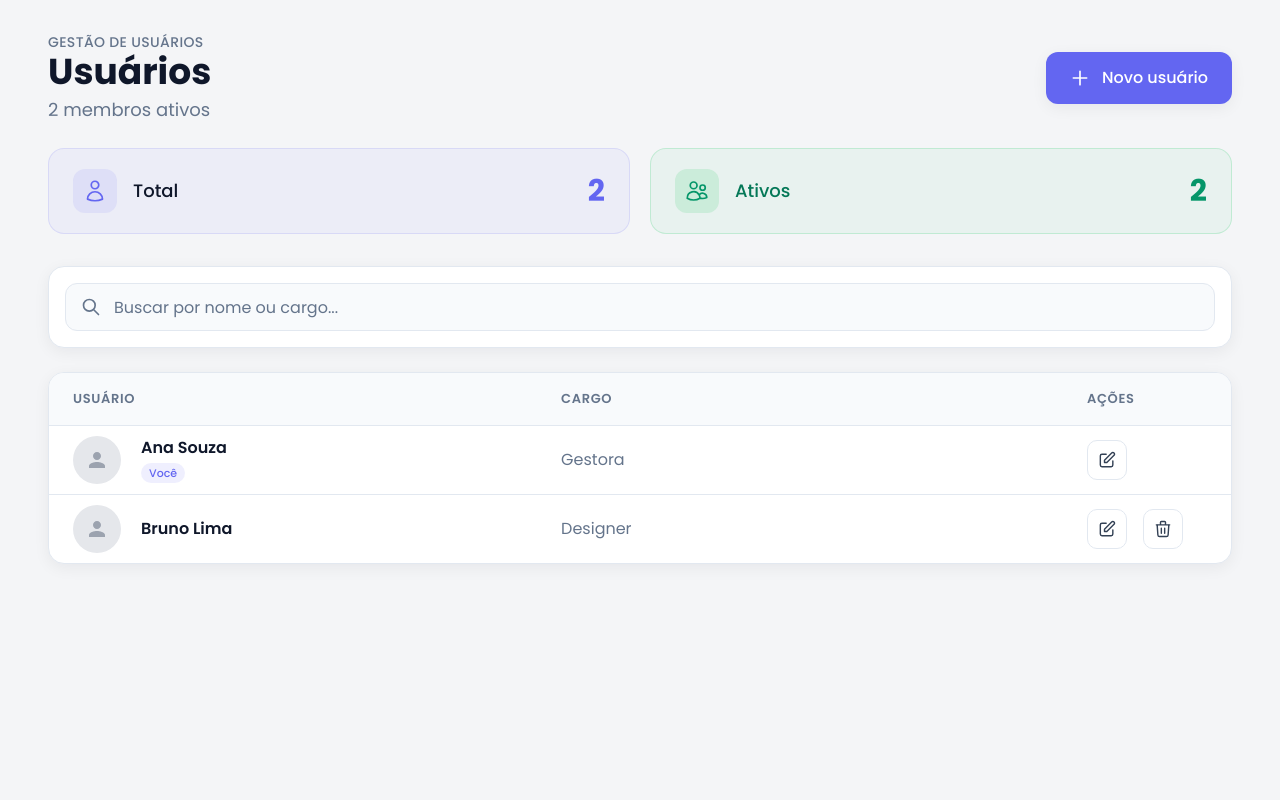
Test: Usuarios › exclusão › mostra o erro da API e mantém o diálogo aberto
Check: the text "Ana Souza" is shown, box [141,436,227,460]
What coordinates should you click on to do the following:
click the button titled "Excluir"
I would click on:
 (1163, 528)
Its box is [1143,508,1183,548].
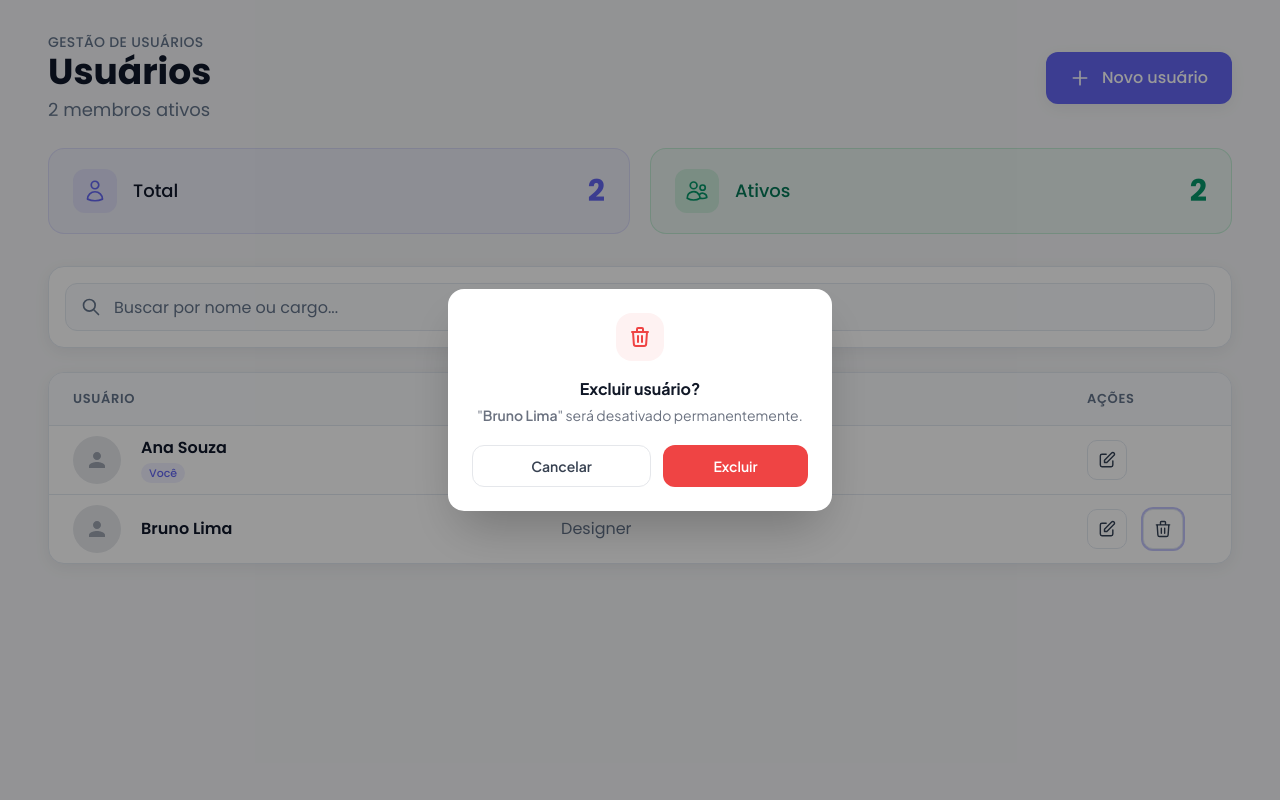
What coordinates should you click on to do the following:
click the button "Excluir"
I would click on:
 (736, 466)
Its box is [663,445,808,487].
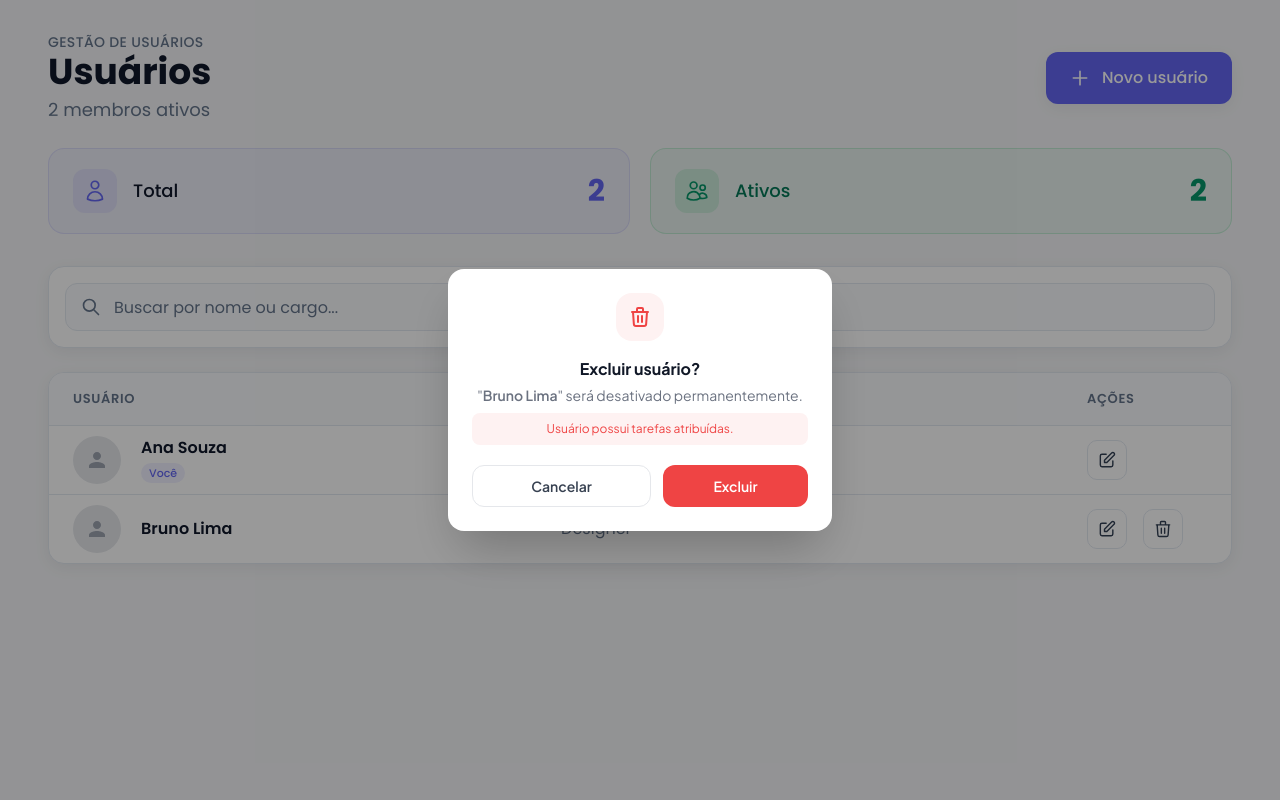
Check: the heading "Excluir usuário?" is shown, box [580,358,700,379]
Check: the text "Usuário possui tarefas atribuídas." is shown, box [472,413,808,445]
